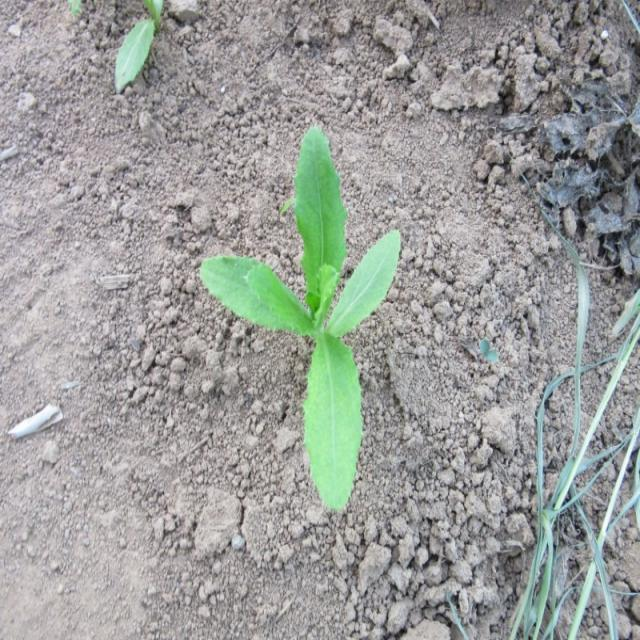cs: (200, 127, 402, 513)
